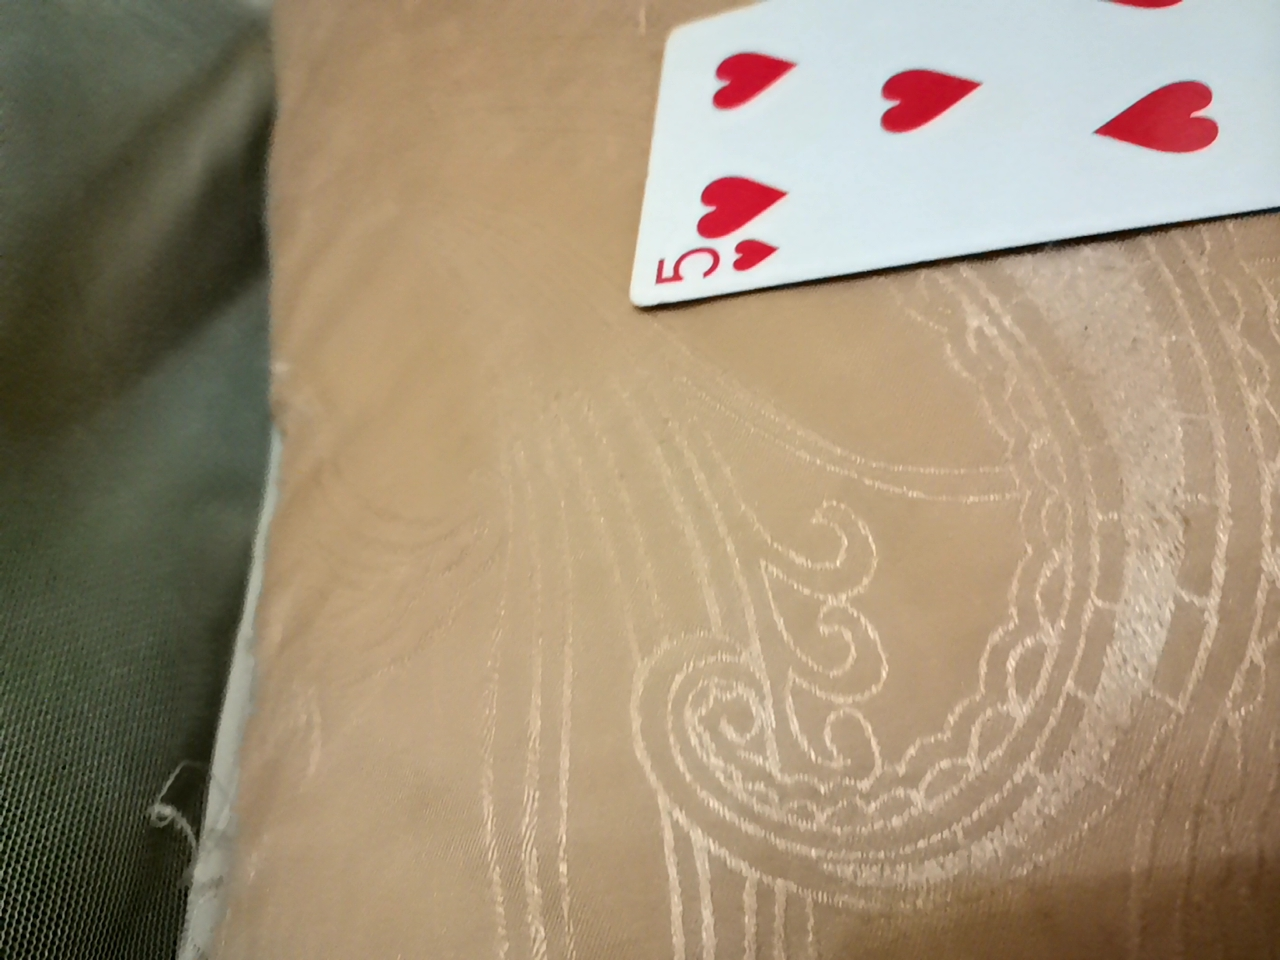hx 5: (601, 3, 1280, 333)
